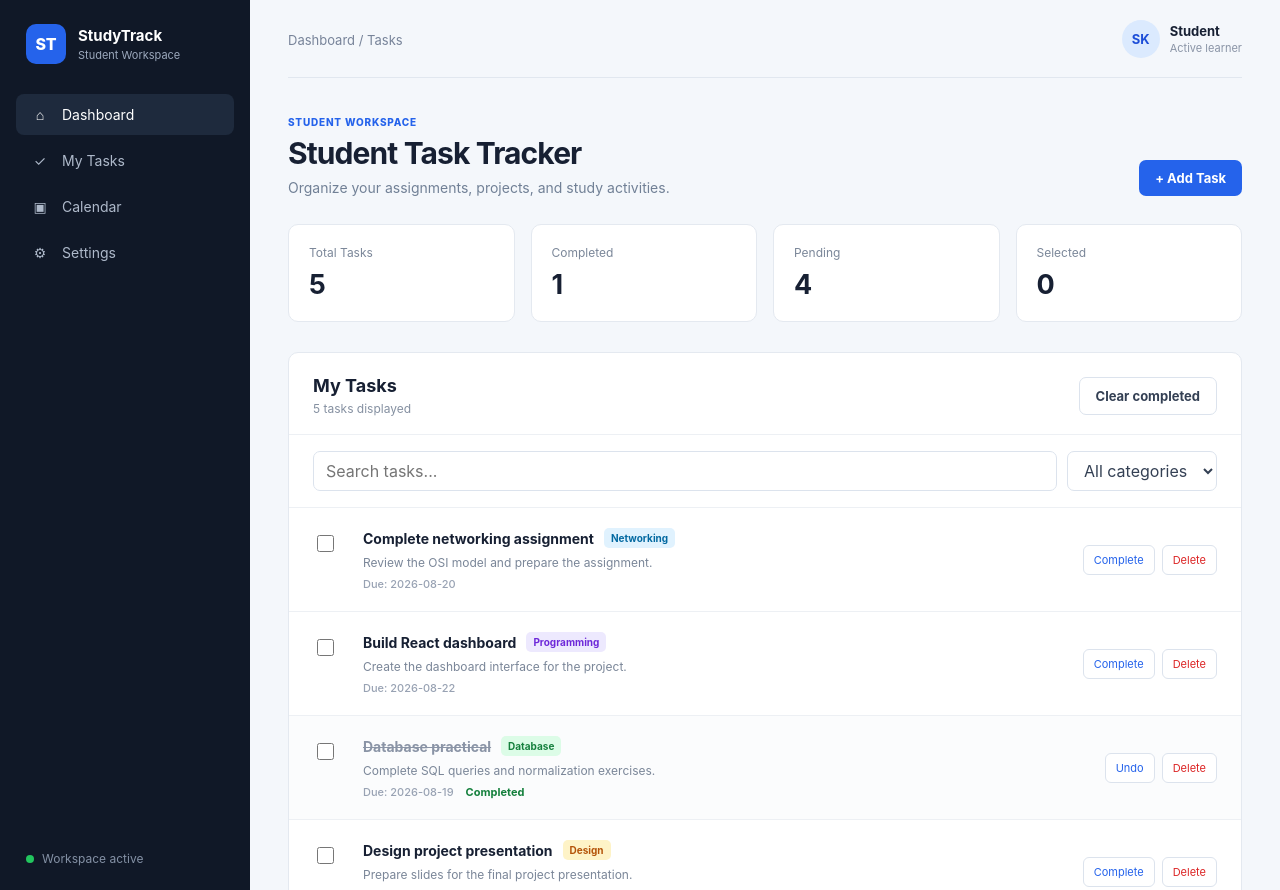
Test: Student Task Tracker › filters tasks using the search field
Type "database" into the search field labelled "Search tasks" at (685, 471), box [313, 451, 1057, 491]
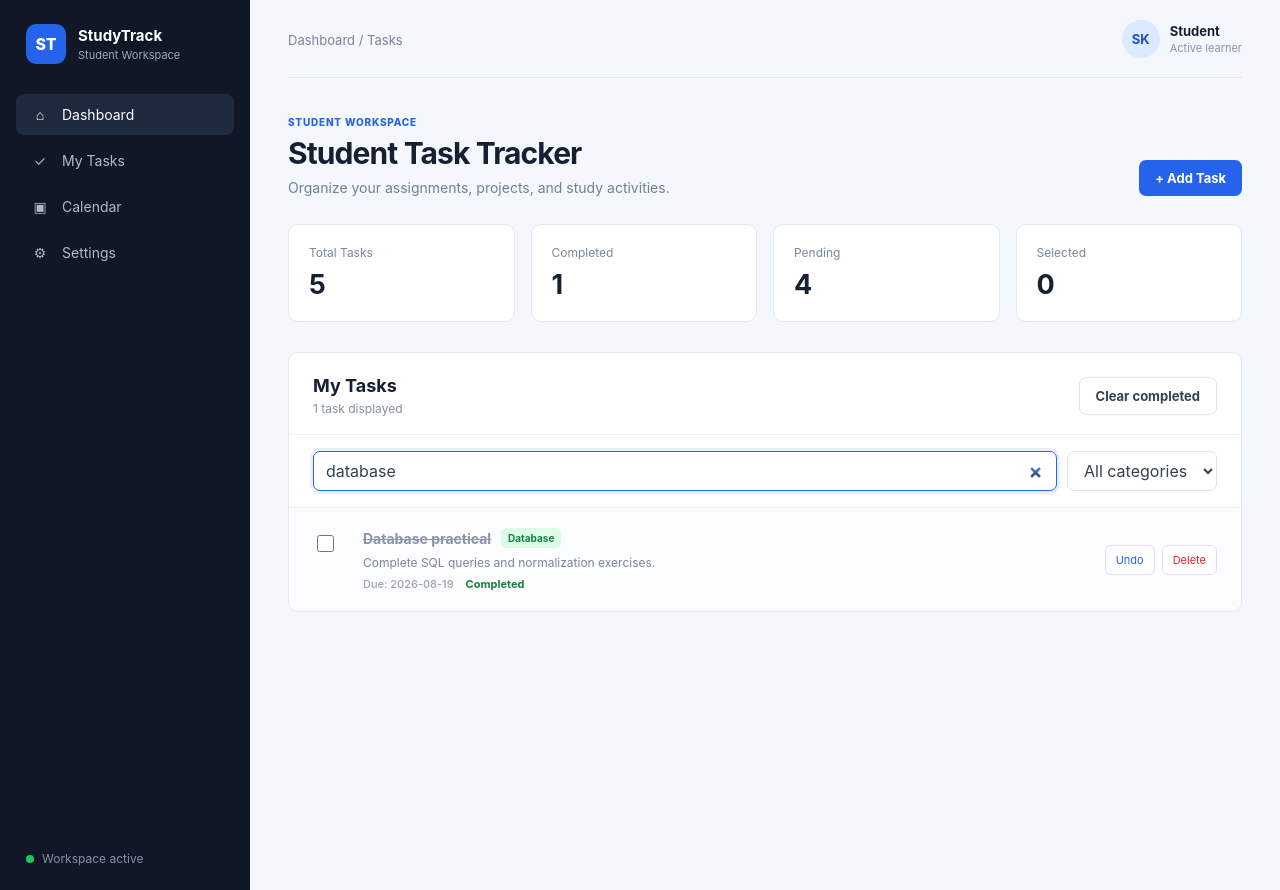
Expected: the heading "Database practical" is shown, [363, 530, 491, 546]
Now the heading "Complete networking assignment" is gone
